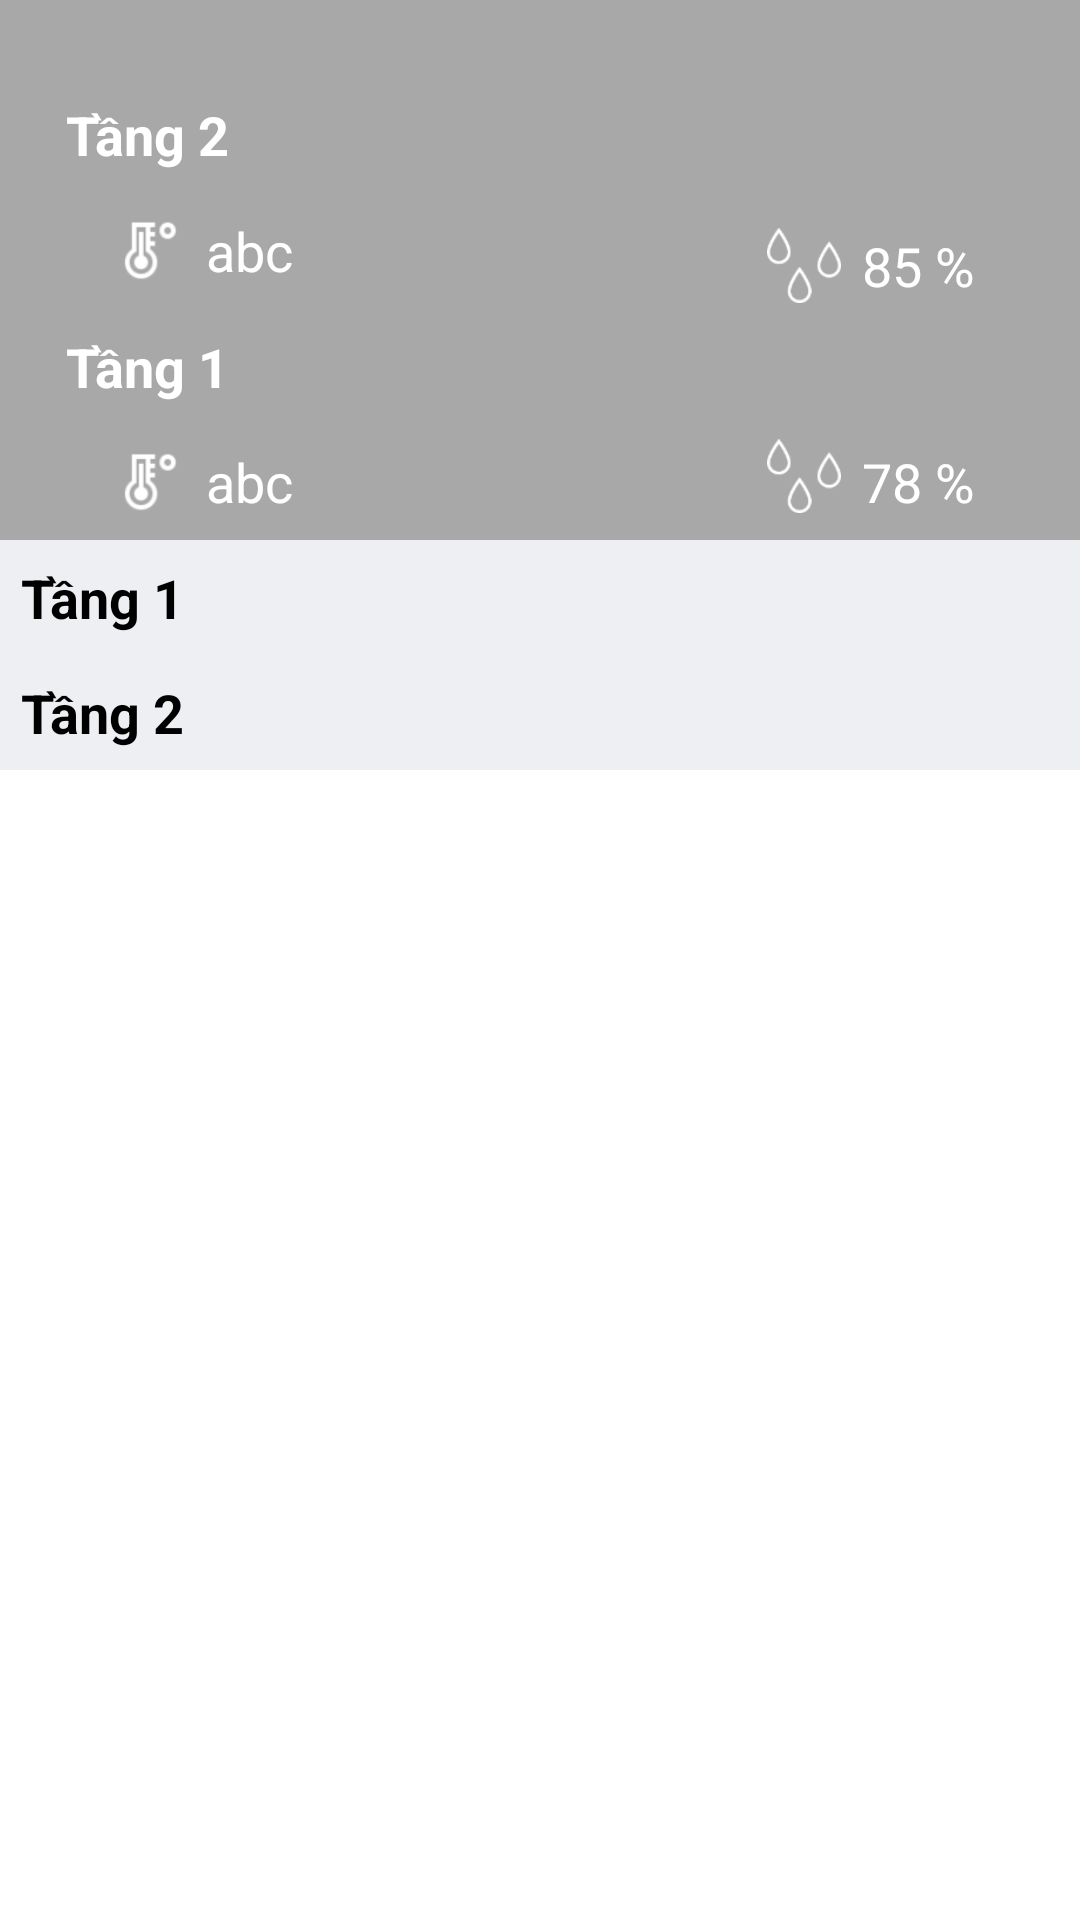

Named icons in this screenshot (1080x1920) and their bounding boxes, (x1, y1, x2, y2):
doam: (767, 228, 841, 303), (767, 439, 841, 513)
nhietdo: (125, 222, 176, 279), (125, 454, 176, 510)
